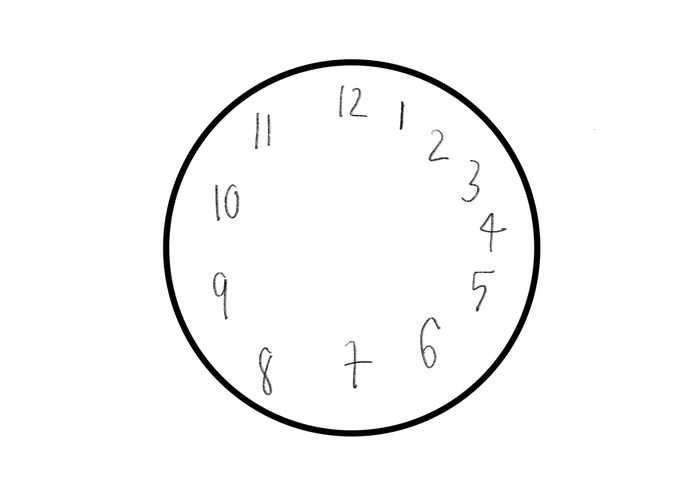eight: (252, 341, 279, 398)
eleven: (251, 109, 275, 150)
five: (467, 266, 497, 316)
four: (474, 209, 509, 257)
nine: (202, 268, 239, 321)
one: (393, 95, 409, 129)
seven: (338, 334, 372, 395)
six: (415, 314, 443, 377)
ten: (203, 181, 245, 226)
three: (455, 155, 483, 203)
twelve: (336, 84, 367, 122)
two: (421, 125, 451, 161)
